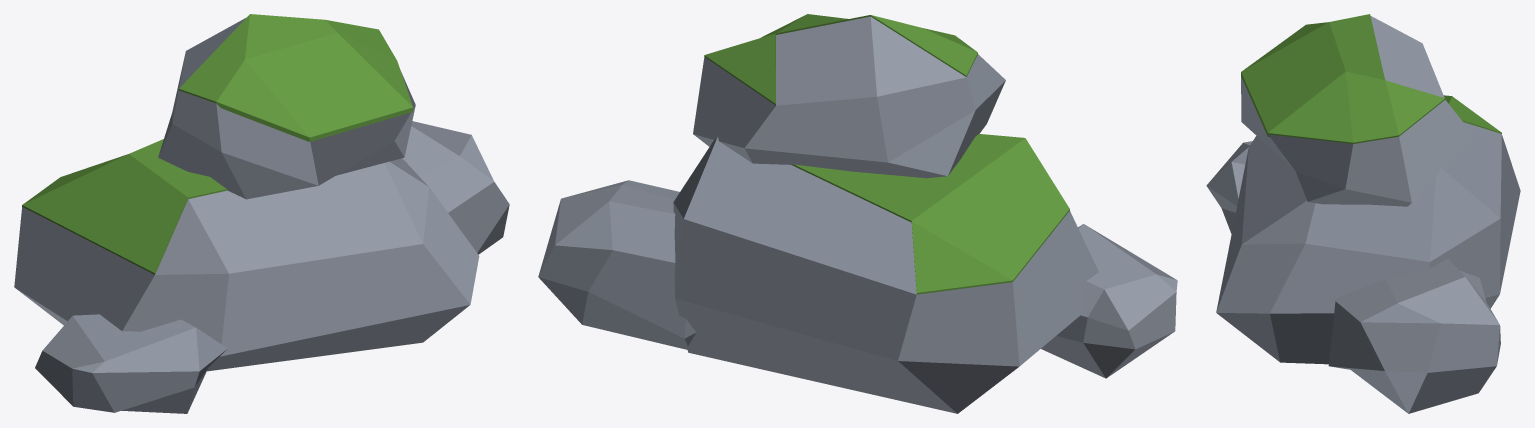
The model's file is RidgeRock2.fbx.
The picture shows the model from 3 angles, left to right: view 1: azimuth 30°, elevation 25°; view 2: azimuth 150°, elevation 25°; view 3: azimuth 270°, elevation 25°; orthographic projection. The views are drawn at different scales.
Parts seen in each view (by area): view 1: Rock, Moss; view 2: Rock, Moss; view 3: Rock, Moss.
Part boxes in pixels (left/top/right/bottom): Rock: left=14, top=18, right=509, bottom=413; Moss: left=22, top=14, right=413, bottom=274; Rock: left=538, top=16, right=1177, bottom=413; Moss: left=704, top=14, right=1069, bottom=294; Rock: left=1206, top=15, right=1520, bottom=413; Moss: left=1241, top=14, right=1501, bottom=143.
Size of the model in its own units: 16.97 by 10.38 by 9.93.
